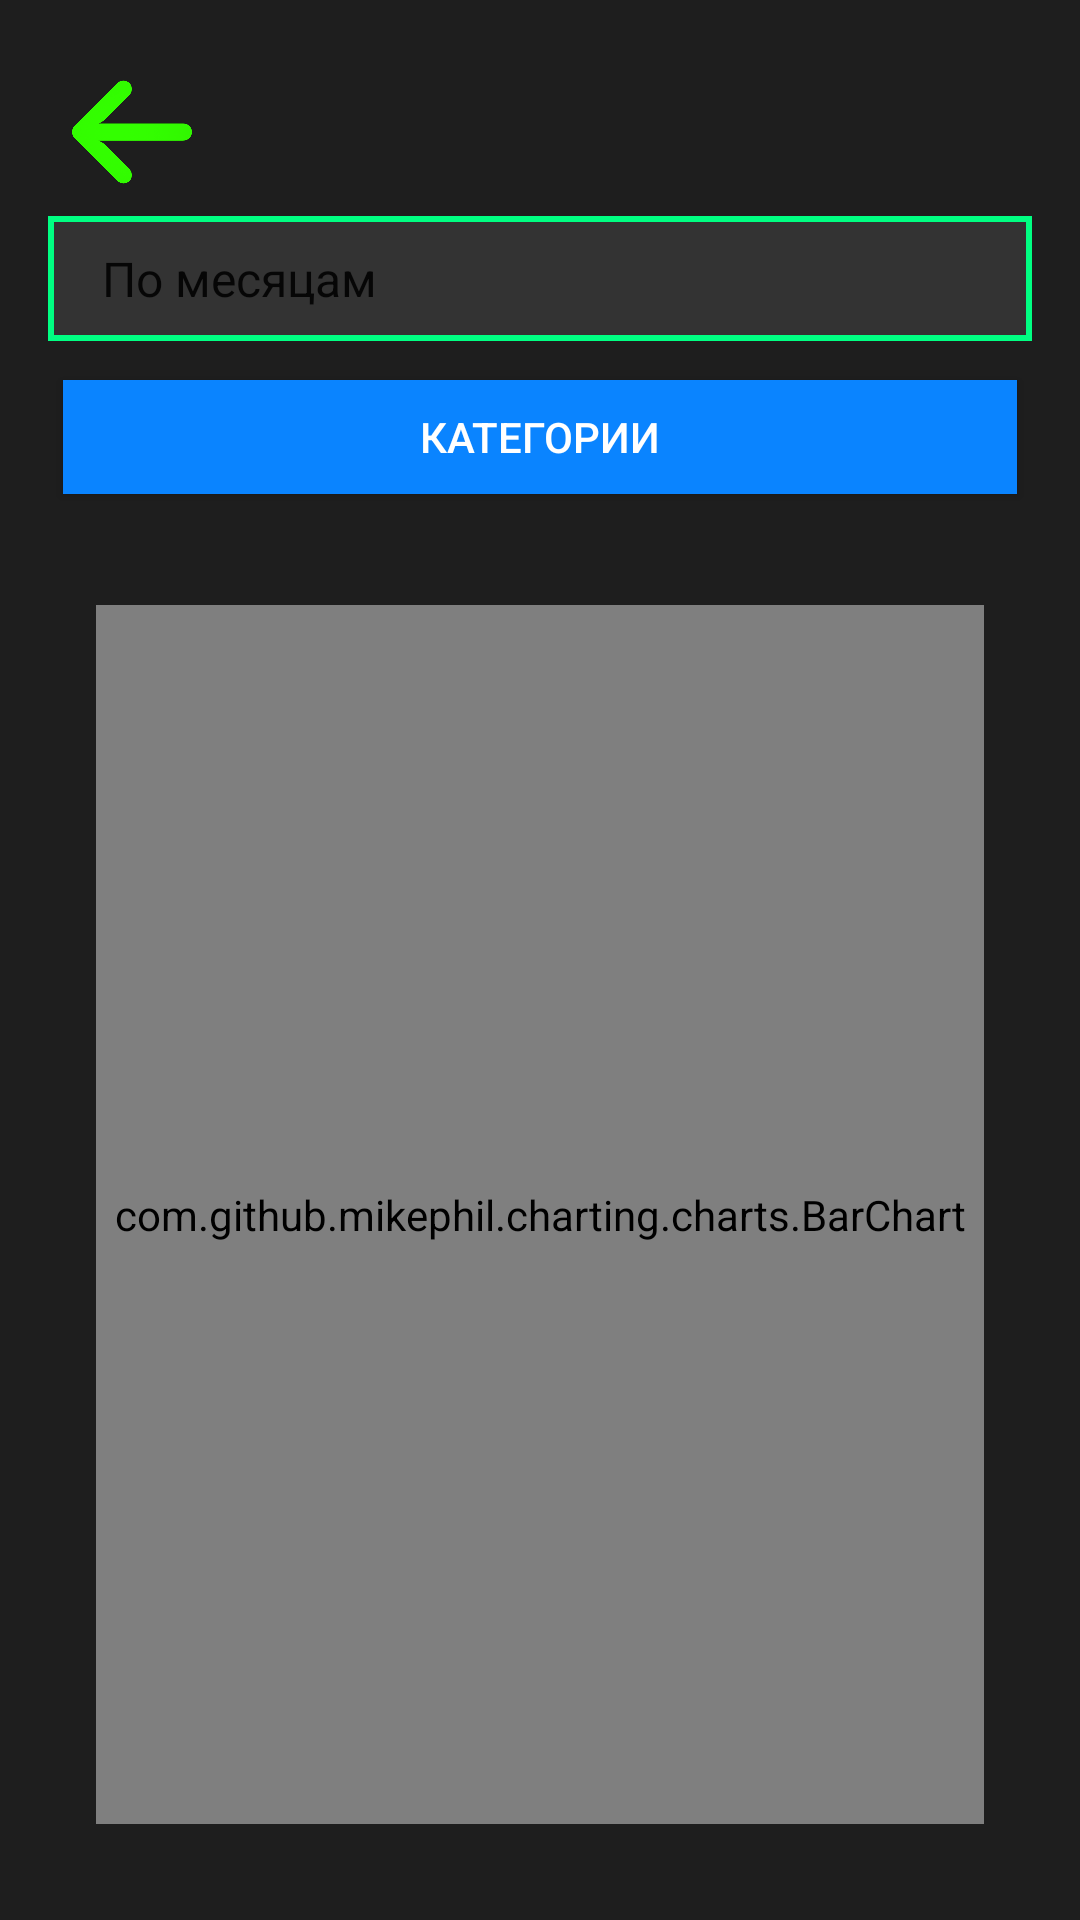

Point at icon controls on the screen. Image size 1080x1920, points as (x=x, y=y).
arrow: (x=132, y=132)
